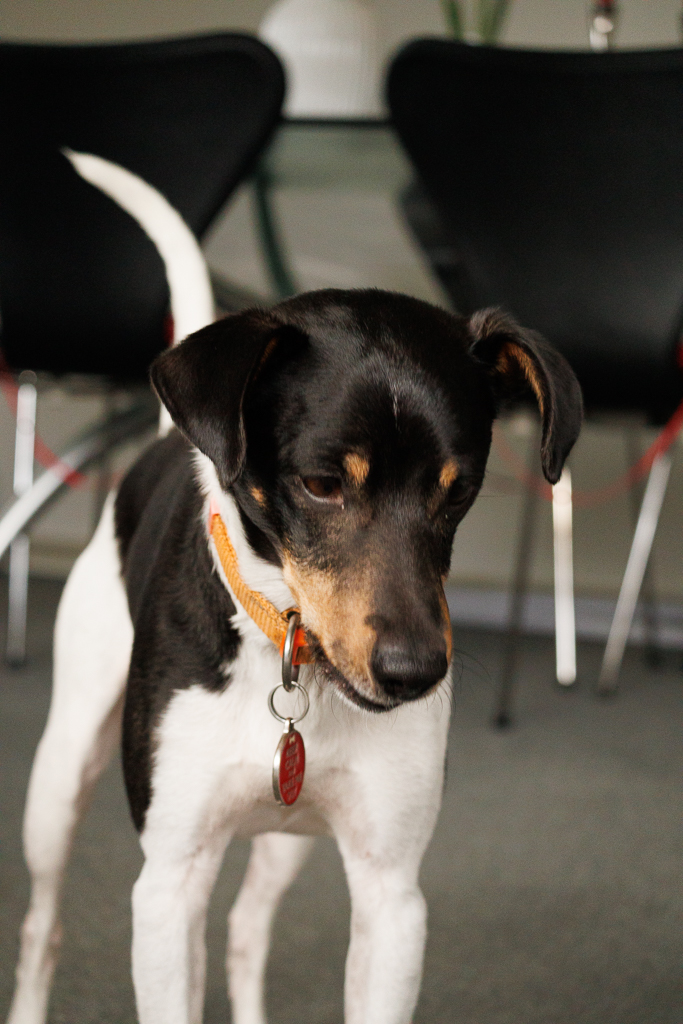Dog: (4, 140, 590, 1024)
